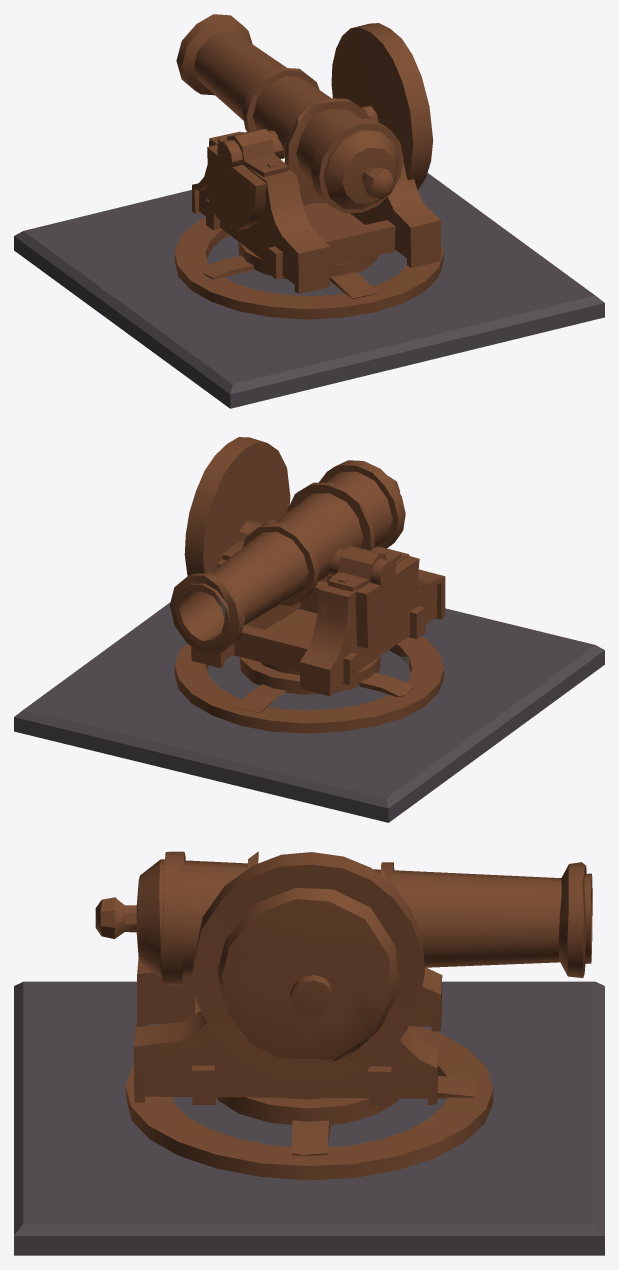
File: cannon22a.glb
3 renders of one model, top to bottom at view 1: azimuth 30°, elevation 25°; view 2: azimuth 150°, elevation 25°; view 3: azimuth 270°, elevation 25°, orthographic. The views are drawn at different scales.
Parts seen in each view (by area): view 1: plate, mount, barrel; view 2: plate, mount, barrel; view 3: plate, mount, barrel.
Part boxes in pixels (x1,y1,x2,y2): plate: [14, 173, 604, 408]; mount: [174, 23, 443, 319]; barrel: [176, 14, 403, 213]; plate: [14, 602, 604, 822]; mount: [174, 437, 445, 733]; barrel: [169, 460, 405, 653]; plate: [14, 981, 604, 1255]; mount: [125, 852, 493, 1180]; barrel: [95, 851, 592, 985].
Size of the model in its own units: 1.9 by 1.14 by 1.9.
